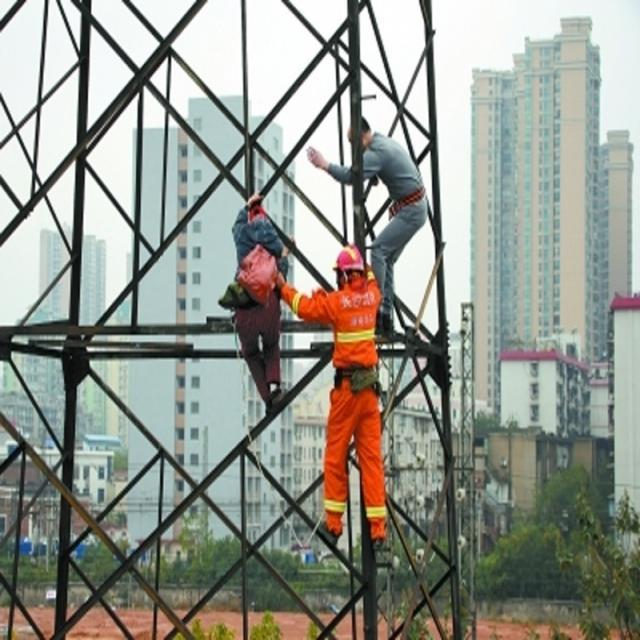non-critical vegetation: (11, 14, 489, 636)
